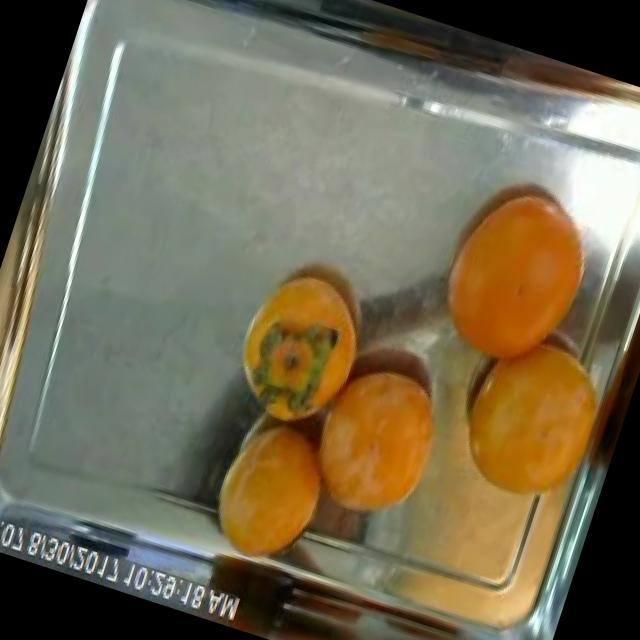Fruit: (410, 148, 625, 391), (187, 382, 359, 586), (212, 249, 390, 446)
